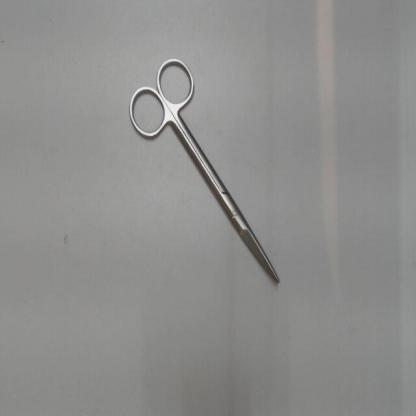Curved Mayo Scissors: (126, 52, 288, 296)
